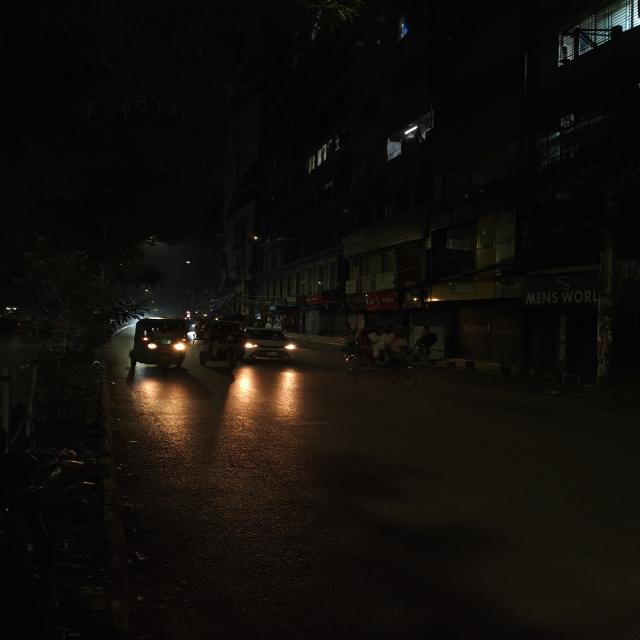car: (244, 324, 302, 366)
cng: (122, 315, 199, 376)
rickshaw: (332, 325, 422, 392), (201, 320, 245, 375)
